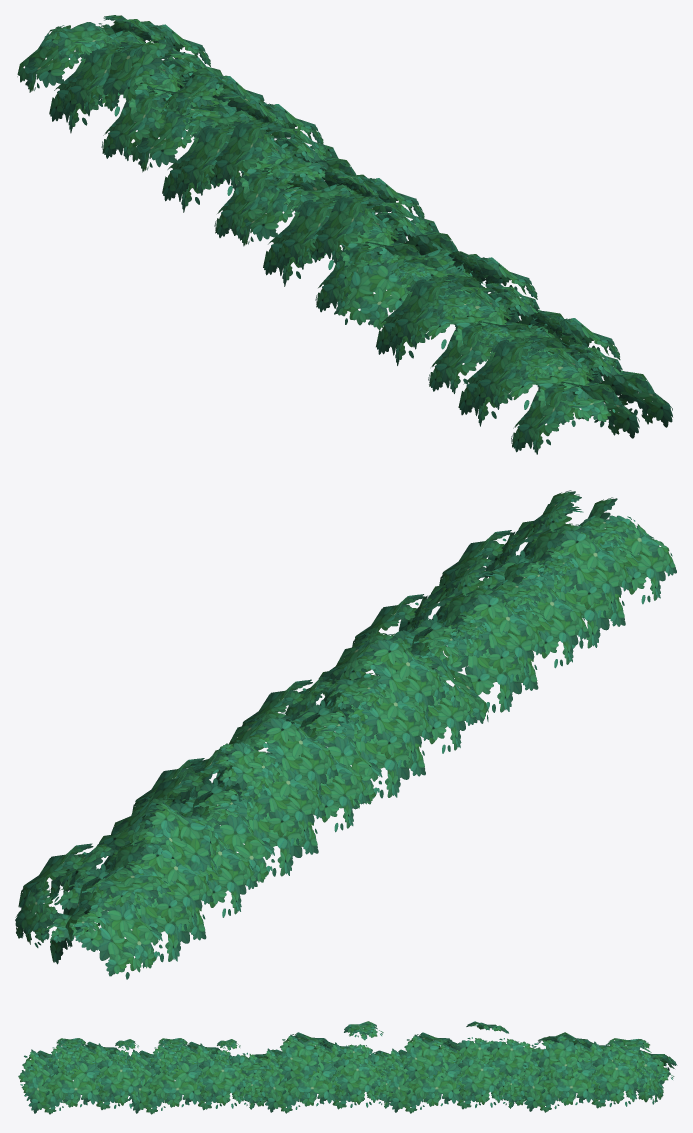
Rendered from BushPotLeaves.fbx.
3 views of the same model, one above another, from view 1: azimuth 30°, elevation 25°; view 2: azimuth 150°, elevation 25°; view 3: azimuth 270°, elevation 25° (orthographic). The views are drawn at different scales.
Parts seen in each view (by area): view 1: BushLeaves; view 2: BushLeaves; view 3: BushLeaves.
Boxes of the visible parts, left/top/right/bottom form: BushLeaves: left=17, top=15, right=672, bottom=454; BushLeaves: left=15, top=490, right=676, bottom=979; BushLeaves: left=18, top=1021, right=677, bottom=1114.
Size of the model in its own units: 1.3 by 1.03 by 7.57.
